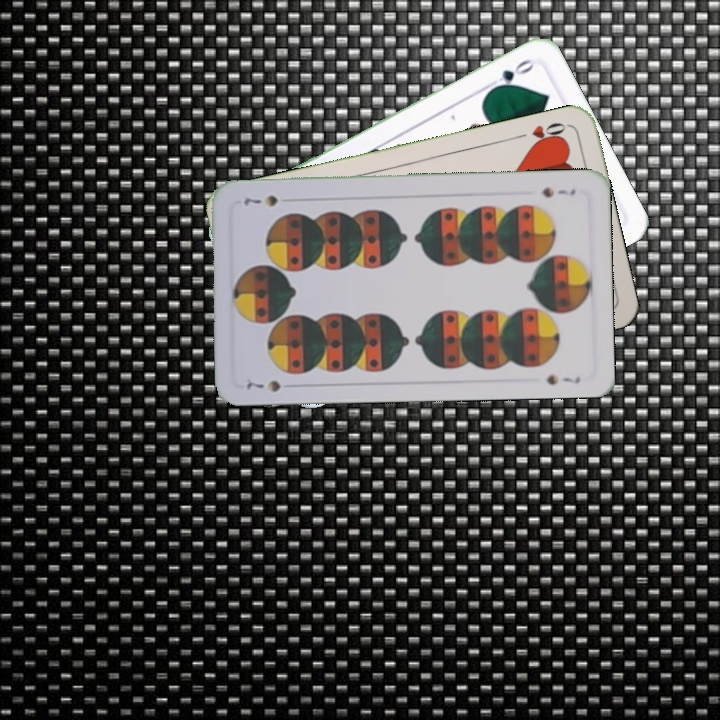GO: (483, 55, 538, 94)
HO: (512, 118, 570, 149)
S7: (240, 374, 284, 395), (538, 183, 578, 200)
